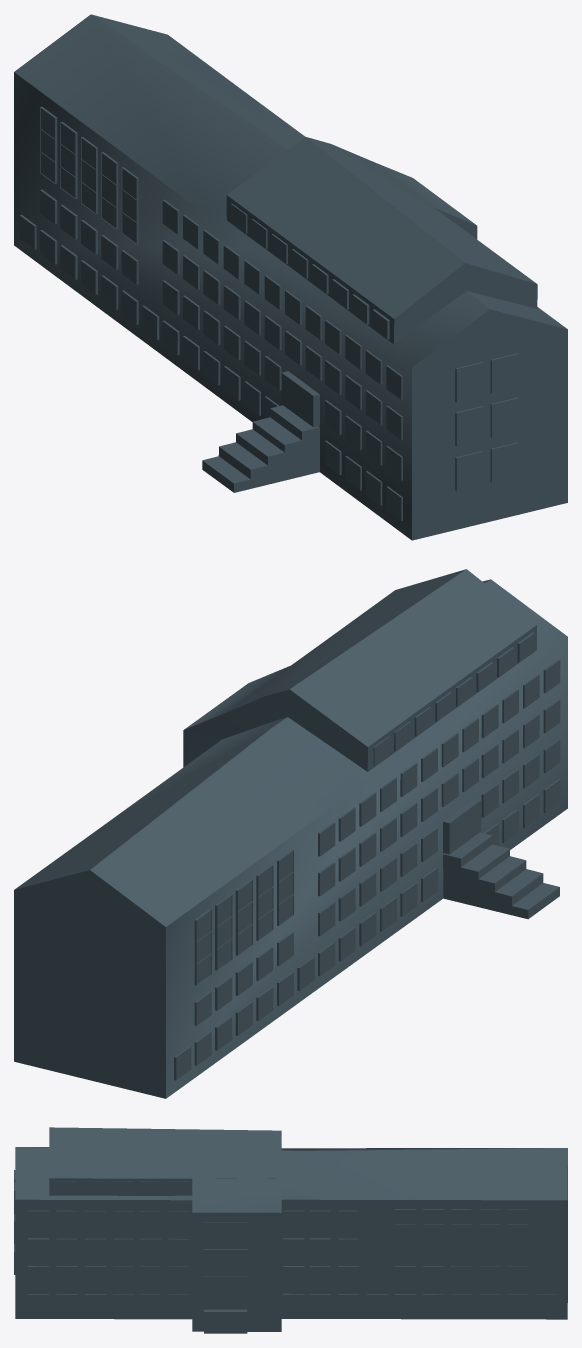
3 renders of one model, top to bottom at view 1: azimuth 30°, elevation 25°; view 2: azimuth 150°, elevation 25°; view 3: azimuth 270°, elevation 25°, orthographic. The views are drawn at different scales.
Parts seen in each view (by area): view 1: C14, Entrance_Front; view 2: C14, Entrance_Front; view 3: C14, Entrance_Back.
Part boxes in pixels (x1,y1,x2,y2): C14: [14, 14, 567, 540]; Entrance_Front: [281, 371, 319, 427]; C14: [14, 569, 567, 1098]; Entrance_Front: [443, 799, 481, 854]; C14: [14, 1127, 567, 1331]; Entrance_Back: [204, 1309, 247, 1333].
Size of the model in its own units: 20.7 by 16.66 by 50.58.
